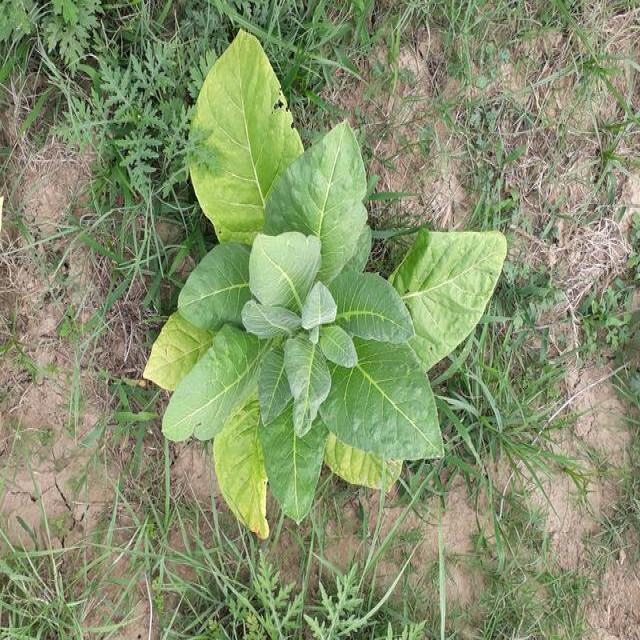crop: (152, 36, 509, 520)
